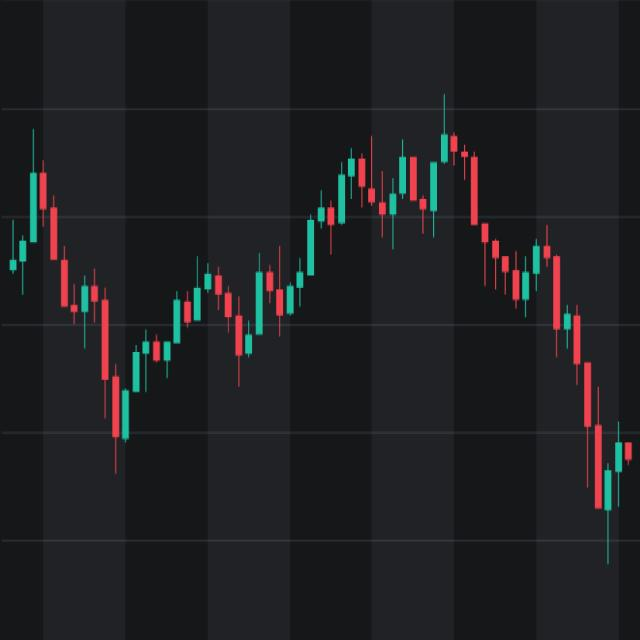Channel-up: (82, 68, 512, 463)
